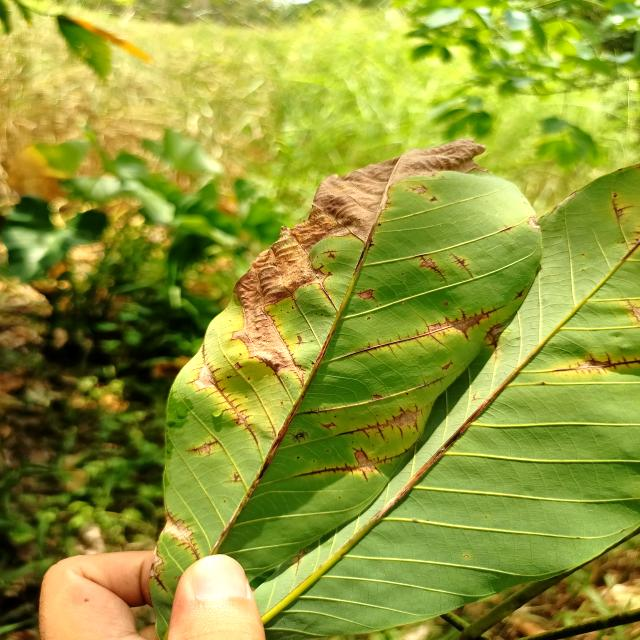Colletotrichum: (297, 456, 300, 459), (367, 317, 370, 320), (327, 449, 329, 452), (401, 274, 404, 276), (378, 224, 381, 226)
Corynespora: (342, 305, 507, 358), (188, 342, 260, 446), (295, 376, 445, 418), (291, 441, 418, 483), (334, 404, 428, 439), (552, 350, 640, 375), (162, 506, 200, 560), (483, 322, 505, 353), (184, 439, 220, 456), (420, 256, 446, 277), (292, 549, 310, 575), (612, 200, 631, 222), (450, 252, 470, 272), (286, 428, 309, 444), (351, 289, 376, 300), (319, 420, 338, 432), (154, 574, 166, 592), (406, 184, 427, 193), (512, 289, 524, 300), (323, 250, 337, 259), (231, 472, 241, 482)
Leaf-Blight: (234, 137, 488, 385), (151, 546, 163, 577), (528, 217, 540, 230), (632, 307, 640, 321)
